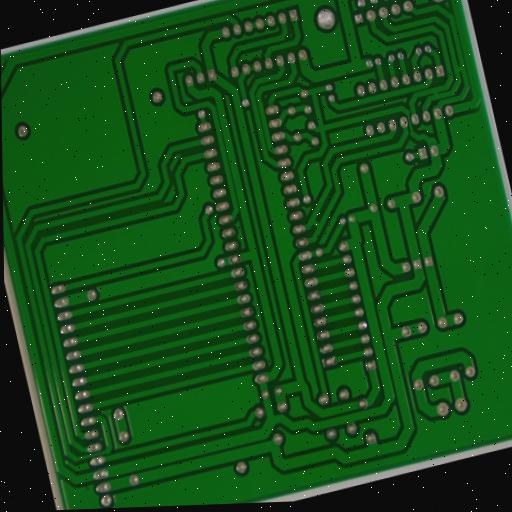short_circuit: (306, 212, 326, 235), (426, 84, 445, 104), (451, 60, 468, 78)
